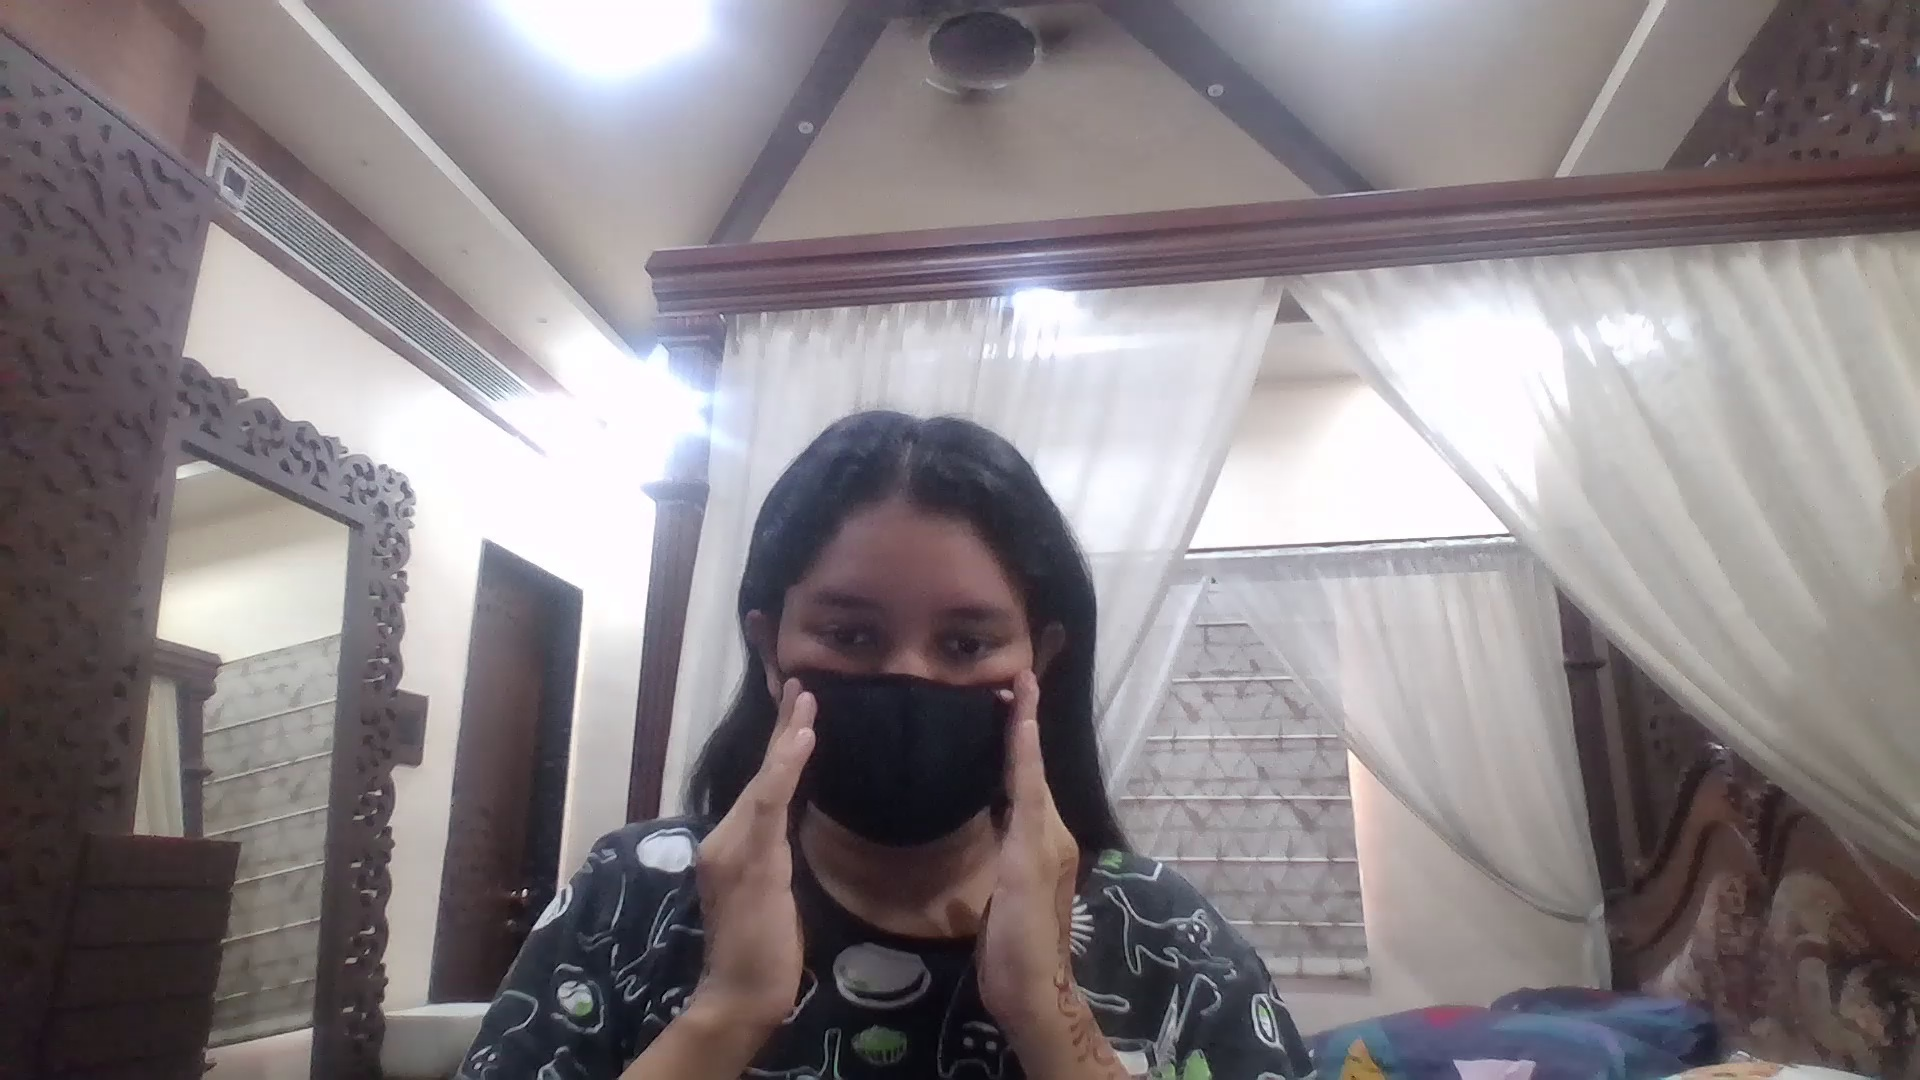Mask: (778, 670, 1040, 842)
